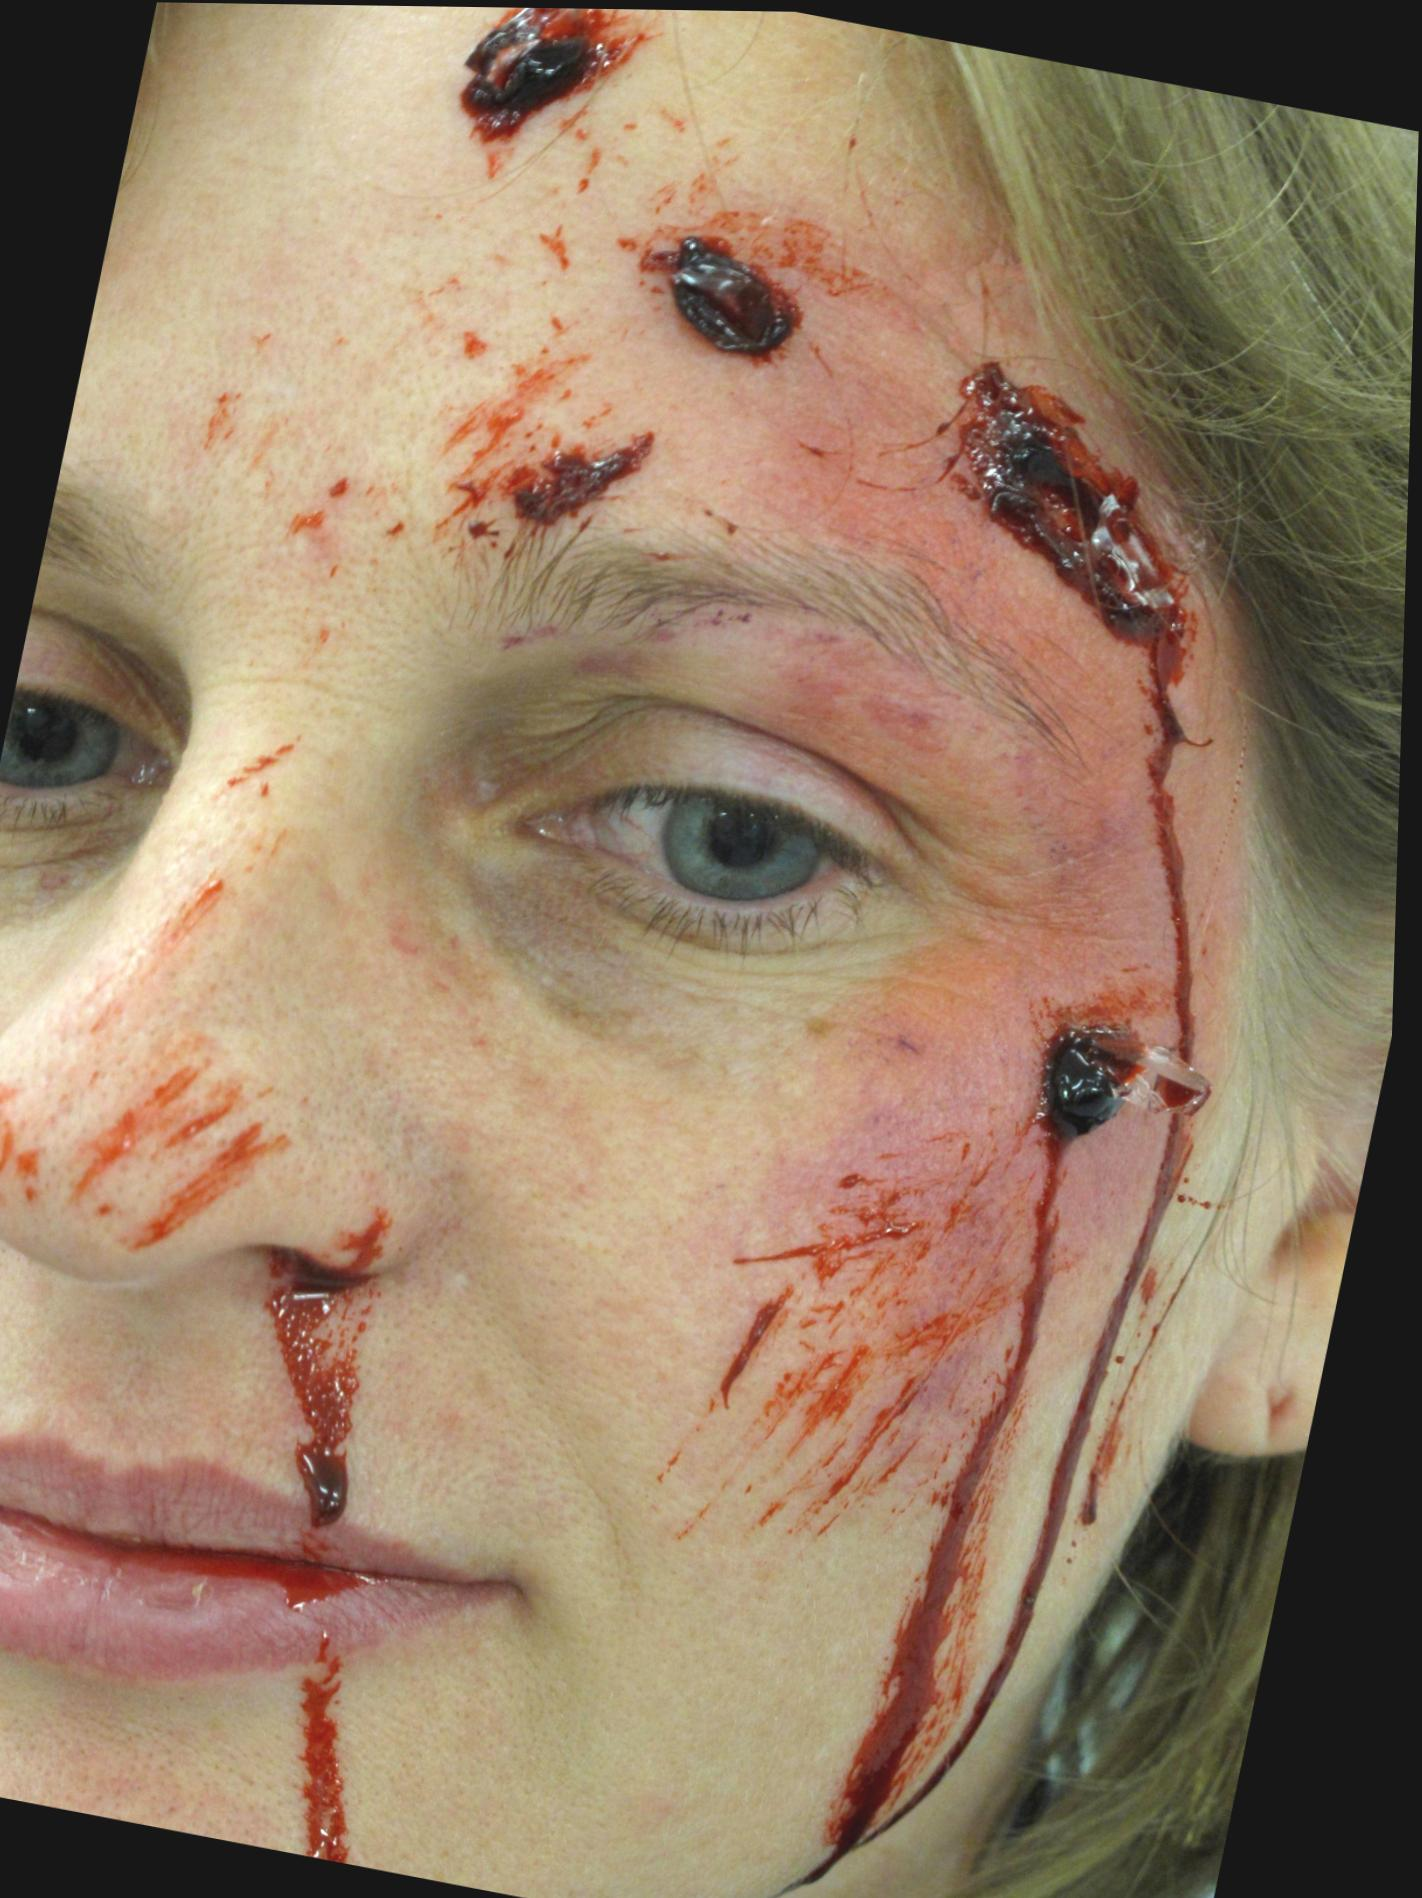Fire: (674, 1141, 1150, 1865), (953, 357, 1201, 1030), (0, 917, 296, 1283), (203, 391, 509, 550), (387, 275, 635, 449), (272, 1251, 381, 1529), (462, 6, 621, 133), (1050, 1021, 1220, 1136), (654, 233, 801, 352), (512, 429, 656, 523), (309, 1640, 357, 1862)
